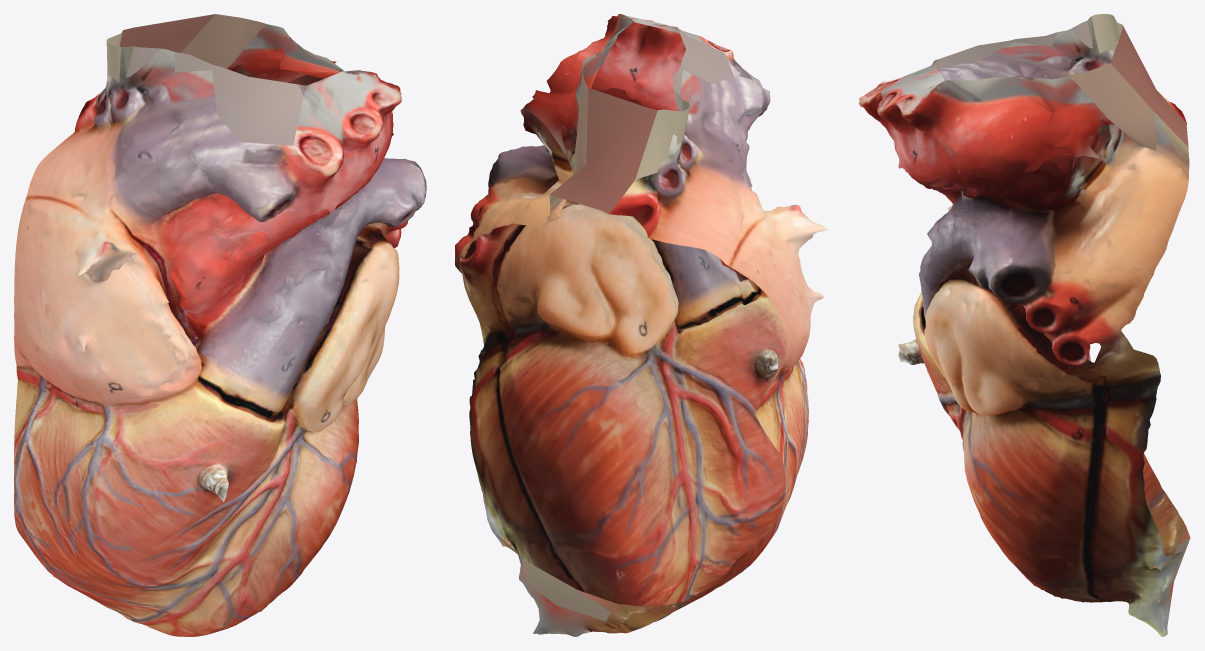
Rendered from human_heart (1).glb.
3 renders of one model, left to right at view 1: azimuth 30°, elevation 25°; view 2: azimuth 150°, elevation 25°; view 3: azimuth 270°, elevation 25°, orthographic. The views are drawn at different scales.
Parts seen in each view (by area): view 1: Object_4; view 2: Object_4; view 3: Object_4.
Part boxes in pixels (left/top/right/bottom): Object_4: left=14, top=14, right=426, bottom=636; Object_4: left=455, top=14, right=829, bottom=636; Object_4: left=858, top=14, right=1190, bottom=636.
Bounding box in the file's own units: 0.1026 × 0.1581 × 0.0852.
1 material, 1 textured.
